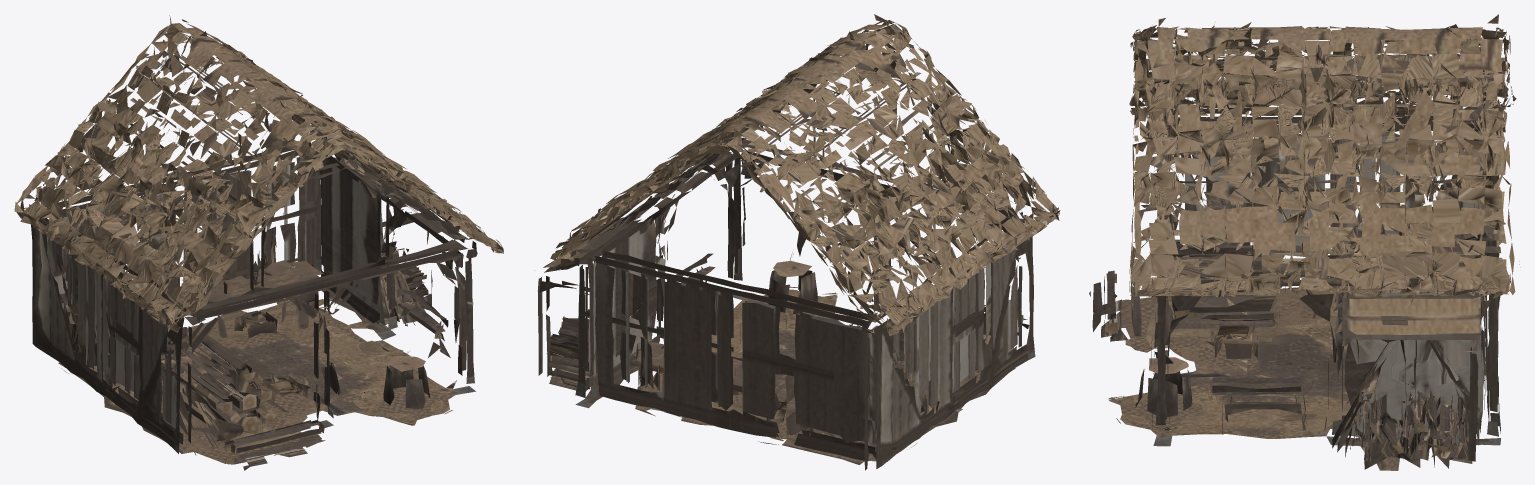
The model's file is foerster.glb.
The picture shows the model from 3 angles, left to right: view 1: azimuth 30°, elevation 25°; view 2: azimuth 150°, elevation 25°; view 3: azimuth 270°, elevation 25°; orthographic projection. The views are drawn at different scales.
Bounding box in the file's own units: 1.88 × 1.49 × 1.68.
Materials: 1 (1 with a texture image).
